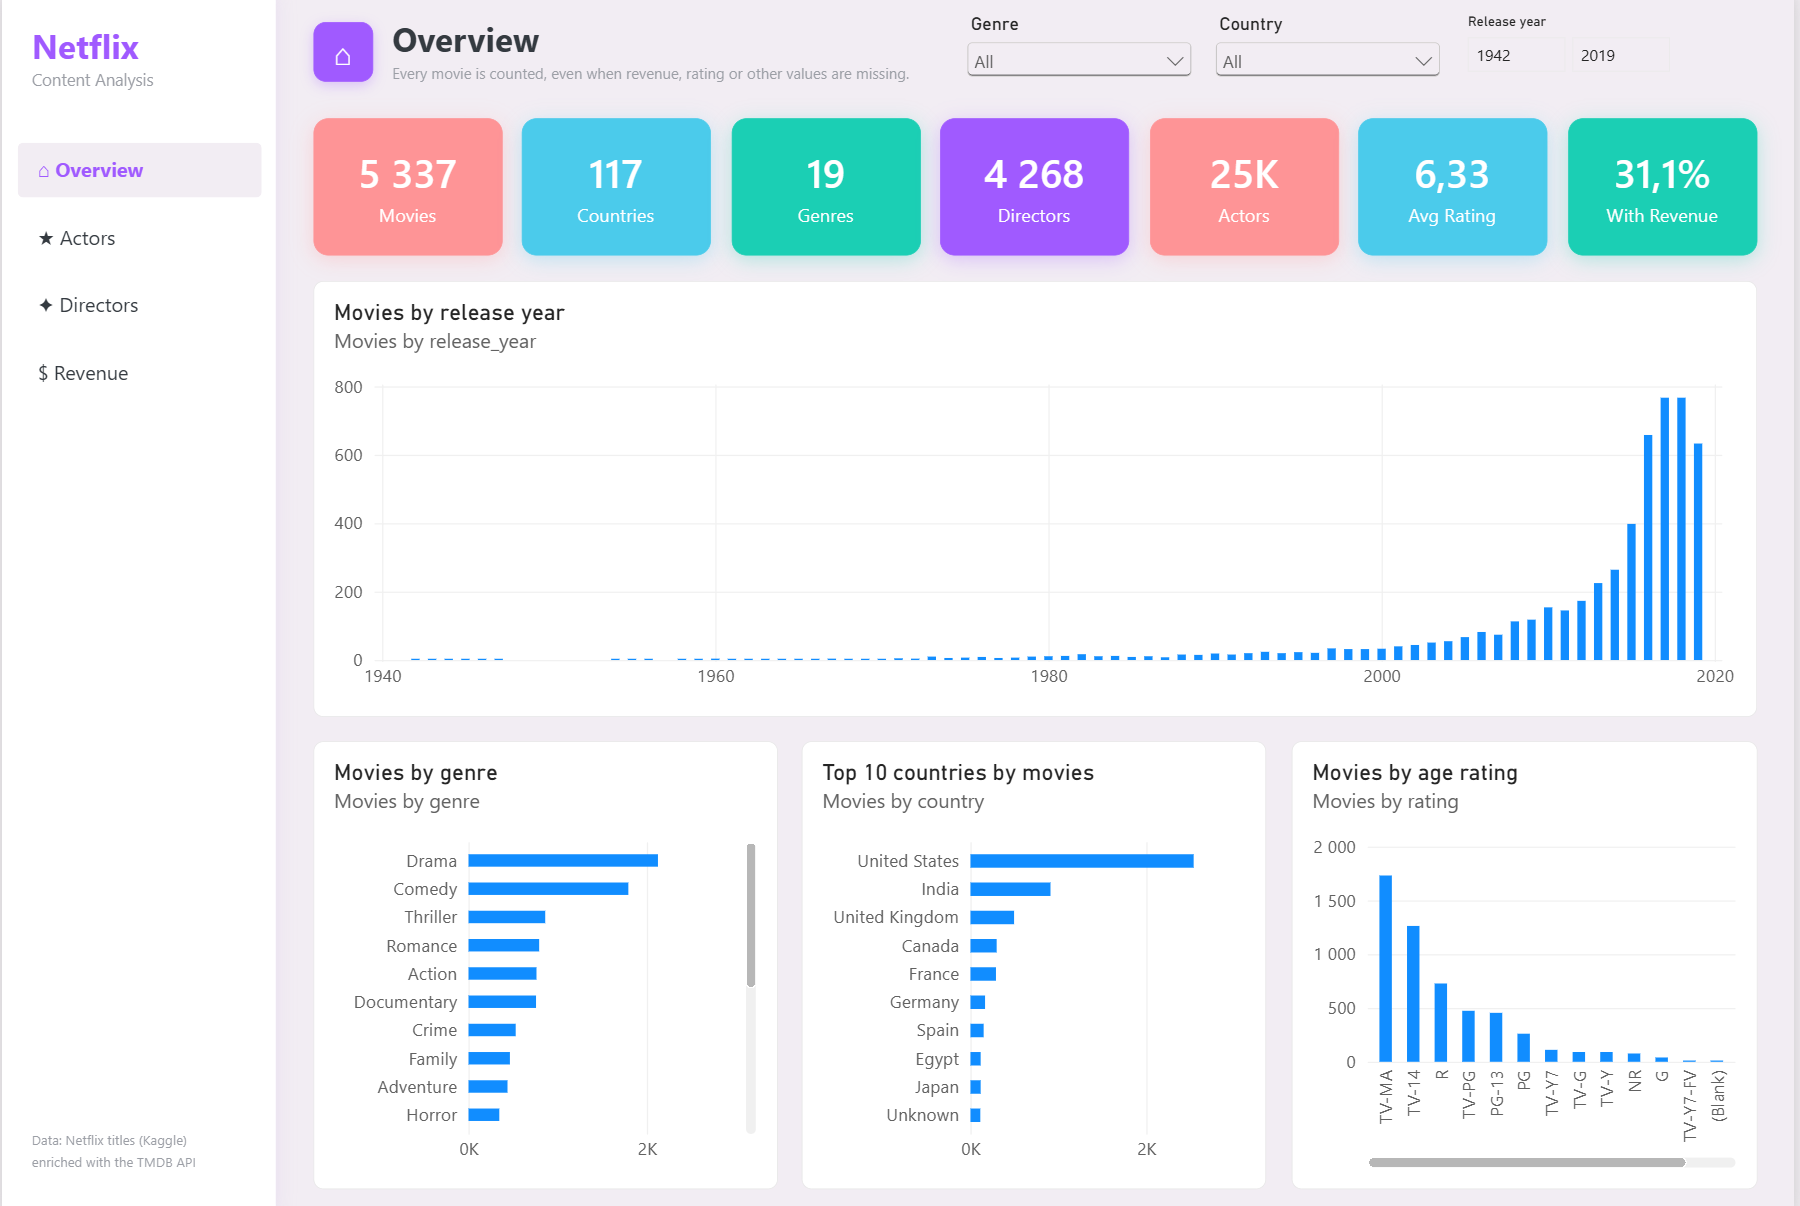

What the dashboard file says about the page in this screenshot:
{"tool":"powerbi","page":{"name":"Overview","canvas":[1440,980],"ordinal":0},"visuals":[{"type":"textbox","box":[0,0,220,980],"z":1000},{"type":"textbox","box":[24,24,180,64],"z":2000},{"type":"actionButton","box":[12,120,196,44],"z":3000},{"type":"actionButton","box":[12,174,196,44],"z":4000},{"type":"actionButton","box":[12,228,196,44],"z":5000},{"type":"actionButton","box":[12,282,196,44],"z":6000},{"type":"textbox","box":[24,910,180,50],"z":7000},{"type":"slicer","fields":{"Values":["movie_genres.genre"]},"box":[770,16,190,64],"z":8000},{"type":"slicer","fields":{"Values":["movie_countries.country"]},"box":[970,16,190,64],"z":9000},{"type":"slicer","fields":{"Values":["movies.release_year"]},"box":[1170,16,240,64],"z":10000},{"type":"textbox","box":[250,22,48,48],"z":11000},{"type":"textbox","box":[314,18,440,60],"z":12000},{"type":"card","fields":{"Values":["_Measures.Movies"]},"box":[250,100,152,110],"z":13000},{"type":"card","fields":{"Values":["_Measures.Countries"]},"box":[418,100,152,110],"z":14000},{"type":"card","fields":{"Values":["_Measures.Genres"]},"box":[586,100,152,110],"z":15000},{"type":"card","fields":{"Values":["_Measures.Directors"]},"box":[754,100,152,110],"z":16000},{"type":"card","fields":{"Values":["_Measures.Actors"]},"box":[922,100,152,110],"z":17000},{"type":"card","fields":{"Values":["_Measures.Avg Rating"]},"box":[1090,100,152,110],"z":18000},{"type":"card","fields":{"Values":["_Measures.Revenue Coverage"]},"box":[1258,100,152,110],"z":19000},{"type":"clusteredColumnChart","title":"Movies by release year","fields":{"Category":["movies.release_year"],"Y":["_Measures.Movies"]},"box":[250,230,1160,350],"z":20000},{"type":"clusteredBarChart","title":"Movies by genre","fields":{"Category":["movie_genres.genre"],"Y":["_Measures.Movies"]},"box":[250,600,373,360],"z":21000},{"type":"clusteredBarChart","title":"Top 10 countries by movies","fields":{"Category":["movie_countries.country"],"Y":["_Measures.Movies"]},"box":[643,600,373,360],"z":22000},{"type":"clusteredColumnChart","title":"Movies by age rating","fields":{"Category":["movies.rating"],"Y":["_Measures.Movies"]},"box":[1036,600,374,360],"z":23000}]}

Visuals, with their boxes on the page's 1440x980 design canvas (x1, y1, x2, y2). These are canvas units, not pixel positions in the 1800x1206 screenshot, which may show the page scaled, cropped or inside an application window:
textbox: locate(0, 0, 220, 980)
textbox: locate(24, 24, 204, 88)
actionButton: locate(12, 120, 208, 164)
actionButton: locate(12, 174, 208, 218)
actionButton: locate(12, 228, 208, 272)
actionButton: locate(12, 282, 208, 326)
textbox: locate(24, 910, 204, 960)
slicer - movie_genres.genre: locate(770, 16, 960, 80)
slicer - movie_countries.country: locate(970, 16, 1160, 80)
slicer - movies.release_year: locate(1170, 16, 1410, 80)
textbox: locate(250, 22, 298, 70)
textbox: locate(314, 18, 754, 78)
card - _Measures.Movies: locate(250, 100, 402, 210)
card - _Measures.Countries: locate(418, 100, 570, 210)
card - _Measures.Genres: locate(586, 100, 738, 210)
card - _Measures.Directors: locate(754, 100, 906, 210)
card - _Measures.Actors: locate(922, 100, 1074, 210)
card - _Measures.Avg Rating: locate(1090, 100, 1242, 210)
card - _Measures.Revenue Coverage: locate(1258, 100, 1410, 210)
"Movies by release year" clusteredColumnChart: locate(250, 230, 1410, 580)
"Movies by genre" clusteredBarChart: locate(250, 600, 623, 960)
"Top 10 countries by movies" clusteredBarChart: locate(643, 600, 1016, 960)
"Movies by age rating" clusteredColumnChart: locate(1036, 600, 1410, 960)
